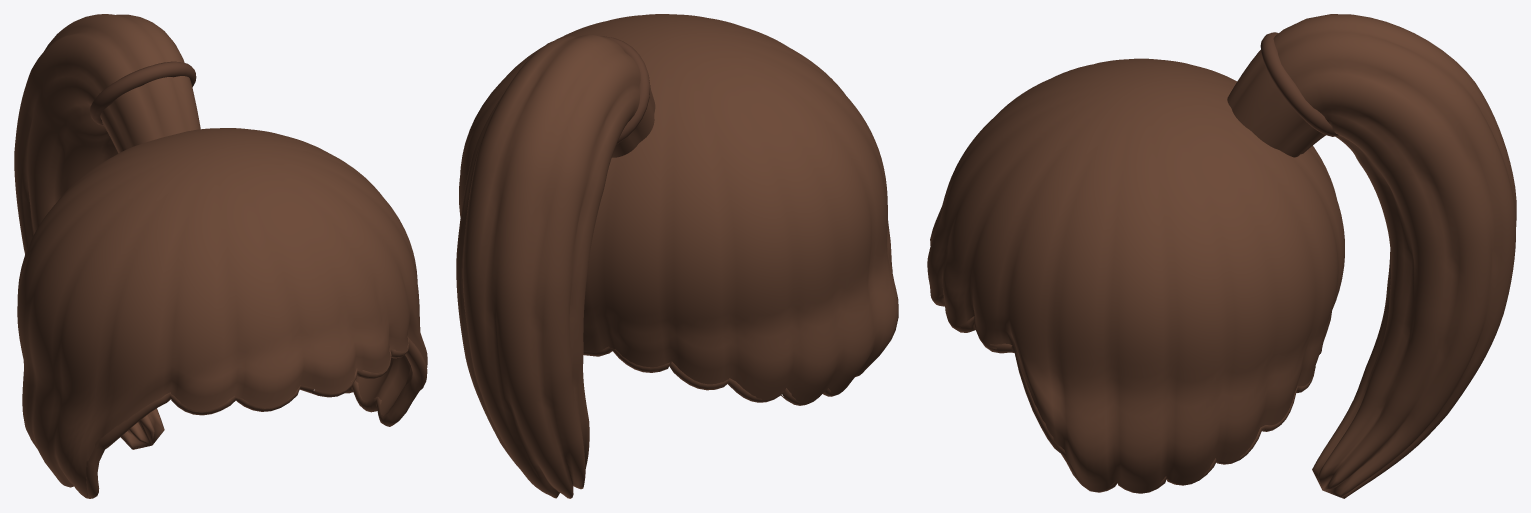
File: hair_g_pony.glb
3 views of the same model, side by side, from view 1: azimuth 30°, elevation 25°; view 2: azimuth 150°, elevation 25°; view 3: azimuth 270°, elevation 25° (orthographic). The views are drawn at different scales.
Parts seen in each view (by area): view 1: Hair_G_PONY; view 2: Hair_G_PONY; view 3: Hair_G_PONY.
Part boxes in pixels (x1=…): Hair_G_PONY: x1=14, y1=14, x2=427, y2=498; Hair_G_PONY: x1=456, y1=14, x2=898, y2=498; Hair_G_PONY: x1=927, y1=14, x2=1516, y2=498.
Size of the model in its own units: 0.613 by 0.6969 by 0.7914.
